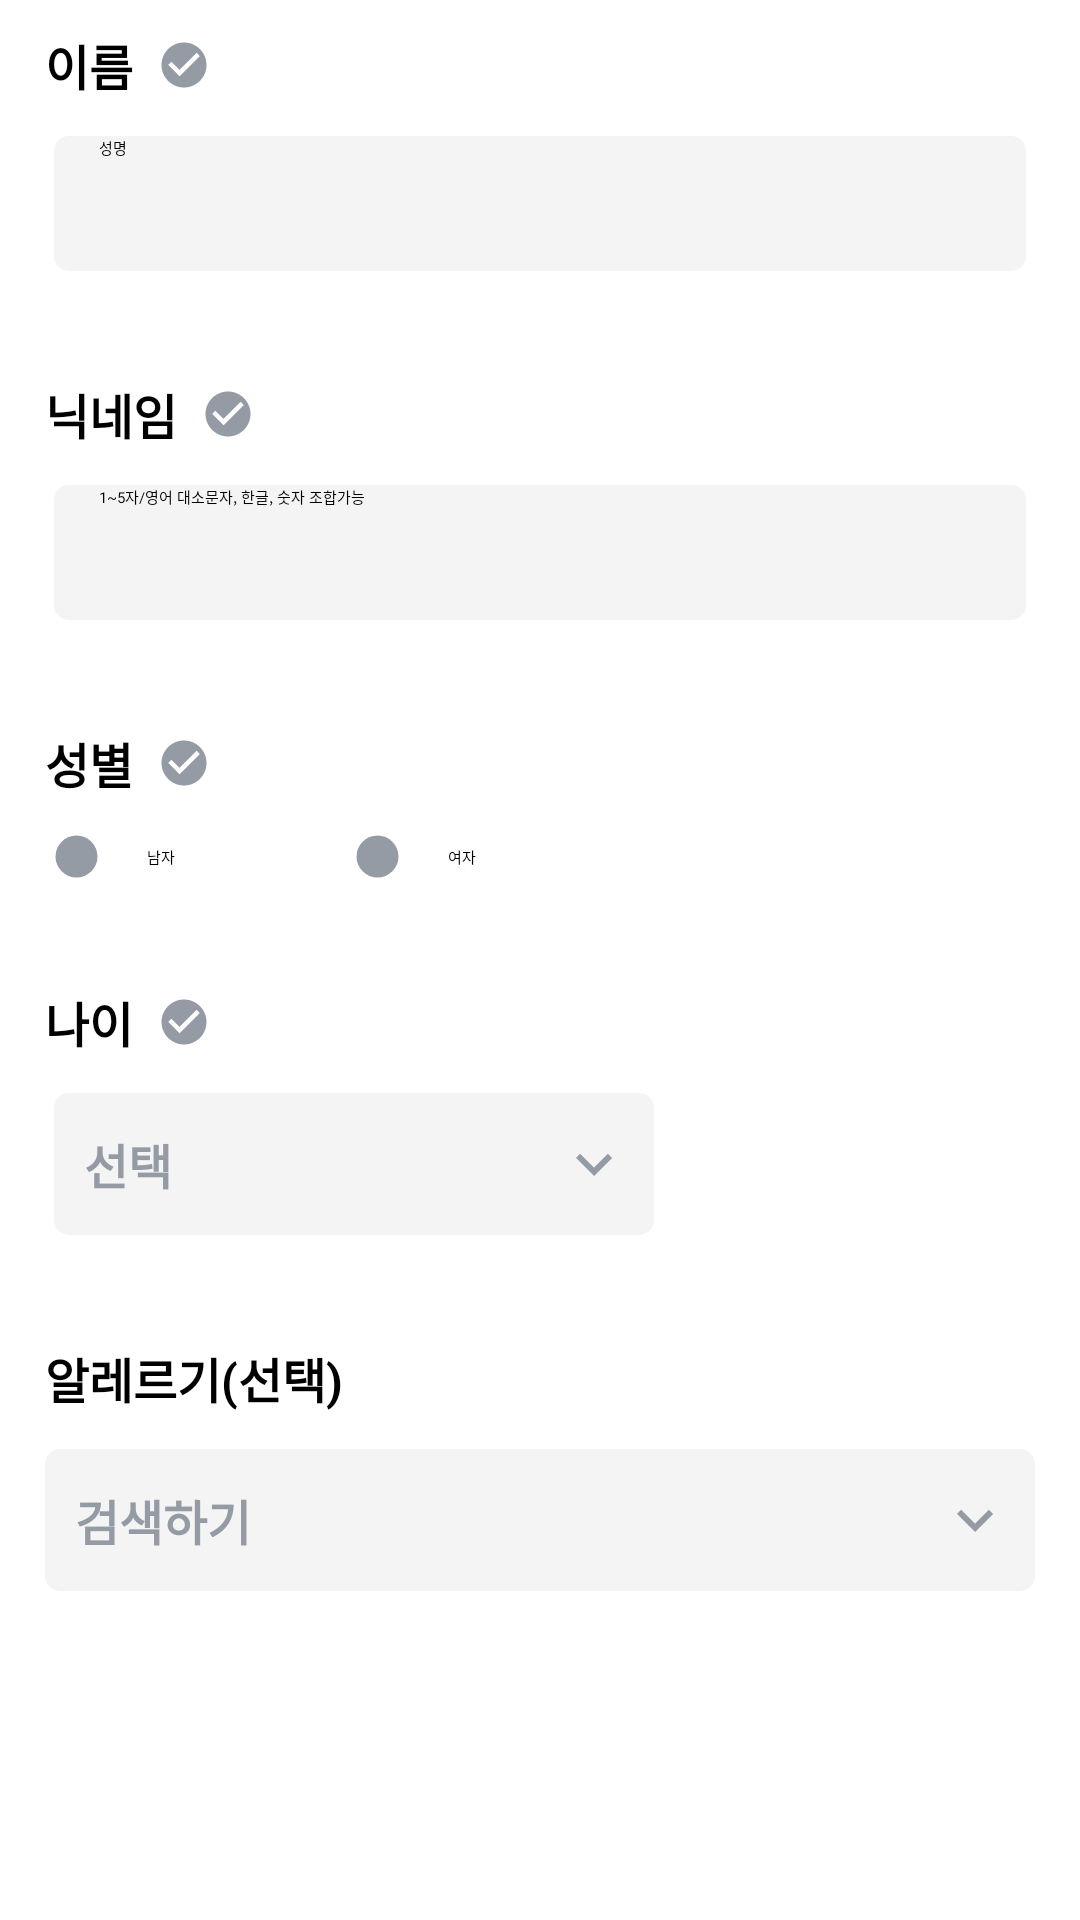

Icons on this 1080*1920 Android screen, each with the point to tap as (x,y):
arrow bottom: (594,1165), (975,1521)
check: (184,65), (228,414), (184,763), (184,1022)
